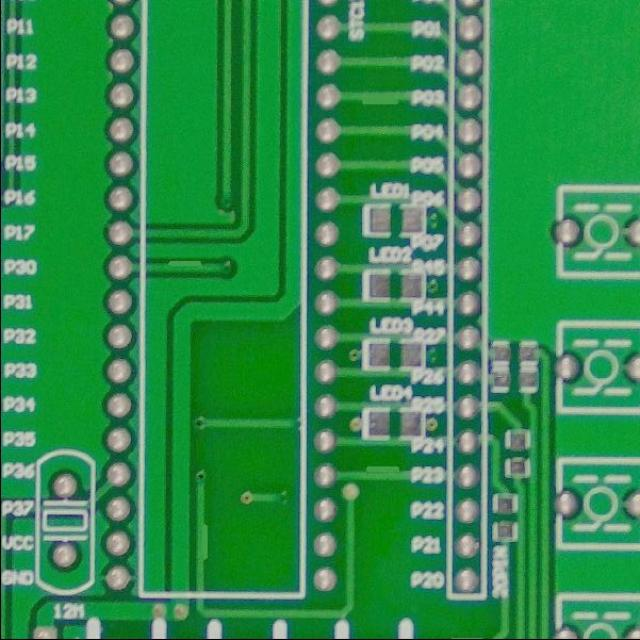Spur: (354, 84, 406, 111), (359, 460, 406, 485), (190, 518, 214, 564), (162, 257, 209, 277)
